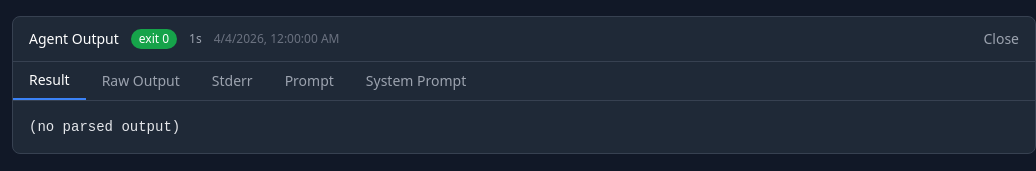
AgentOutputPanel › shows not captured when legacy output has no systemPrompt
This screenshot has width=1036, height=171.
Step 1. Click the button "System Prompt" → (416, 81), box [350, 62, 482, 100]
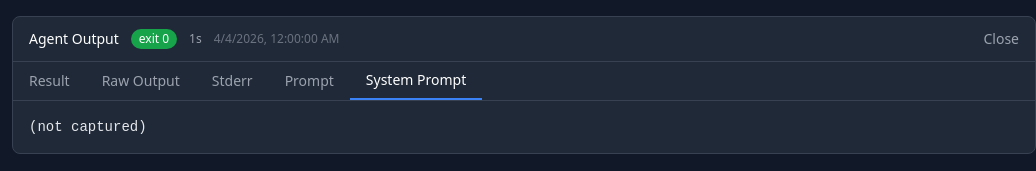
Result: the text "(not captured)" is shown at [29, 119, 147, 135]
